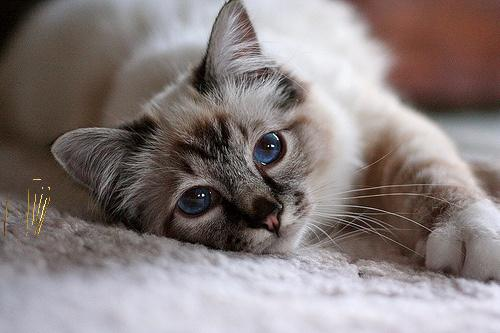tampered: (5, 180, 50, 236)
